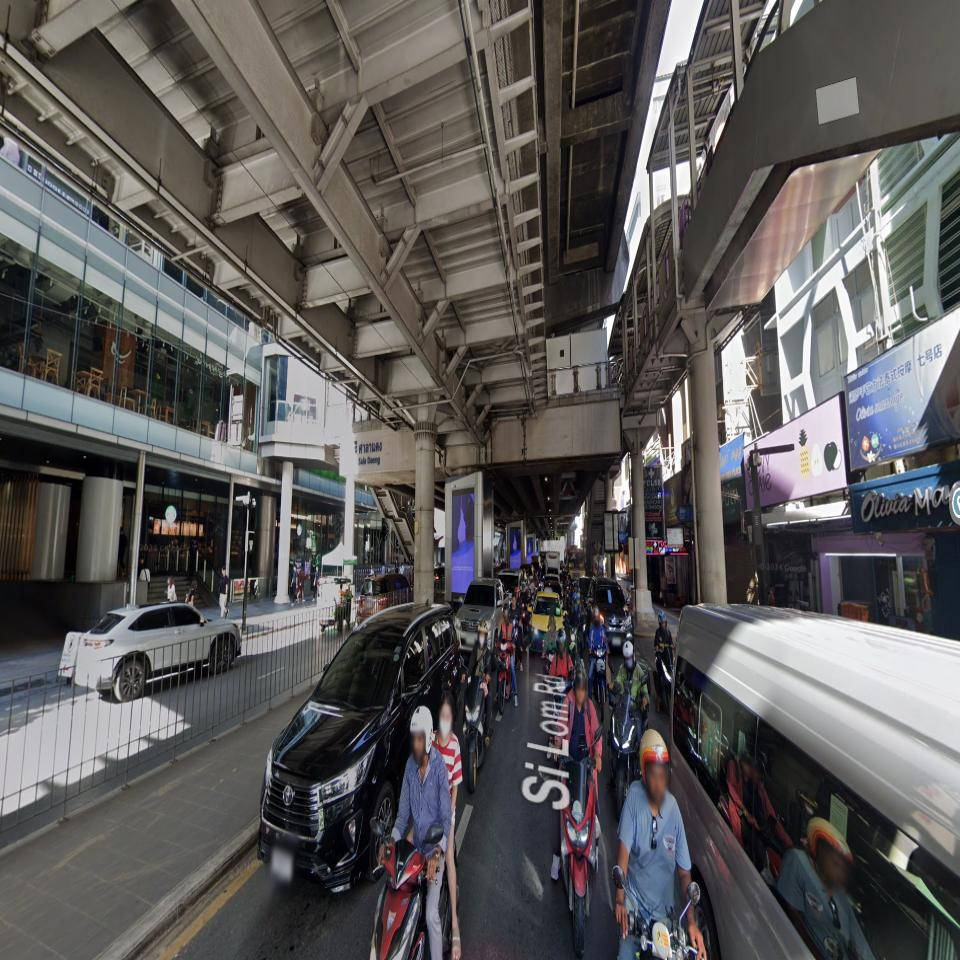signage: (358, 441, 382, 467)
